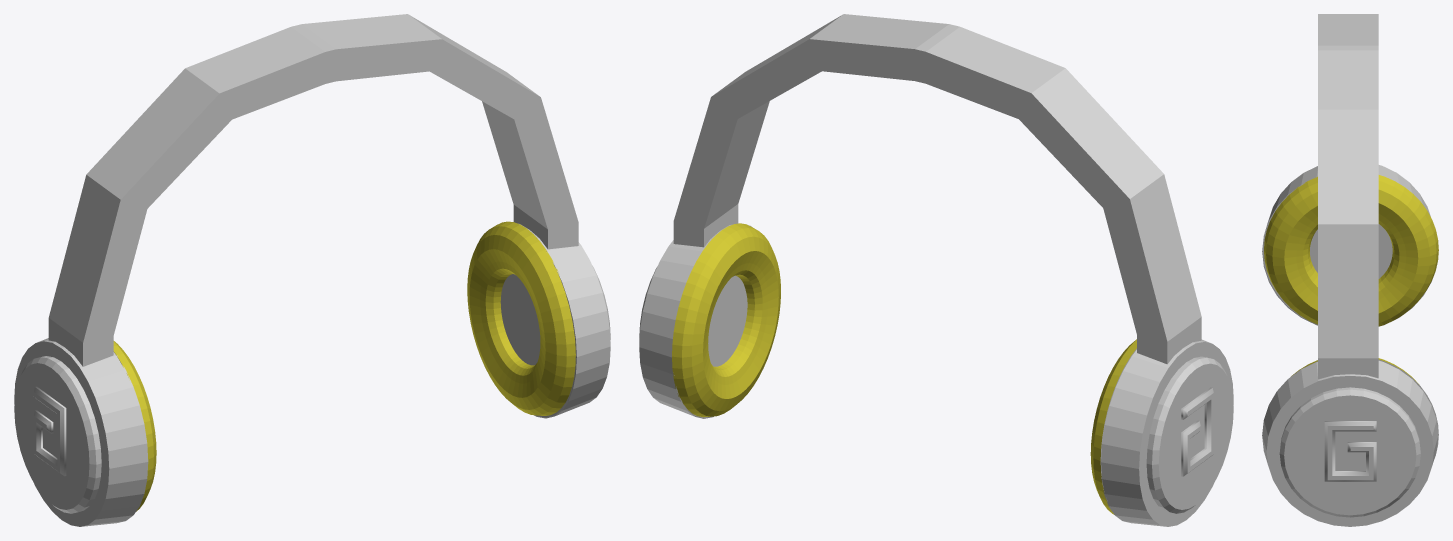
The model's file is headphones.fbx.
The picture shows the model from 3 angles, left to right: view 1: azimuth 30°, elevation 25°; view 2: azimuth 150°, elevation 25°; view 3: azimuth 270°, elevation 25°; orthographic projection. The views are drawn at different scales.
Parts seen in each view (by area): view 1: Cube, Text.001; view 2: Cube, Text.001; view 3: Cube, Text.
Boxes of the visible parts, x1,y1,x2,y2 form: Cube: (14, 14, 610, 526); Text.001: (33, 386, 66, 476); Cube: (639, 14, 1233, 526); Text.001: (1181, 387, 1213, 476); Cube: (1262, 14, 1438, 526); Text: (1324, 421, 1376, 481).
Bounding box in the file's own units: 617 × 473 × 202.
